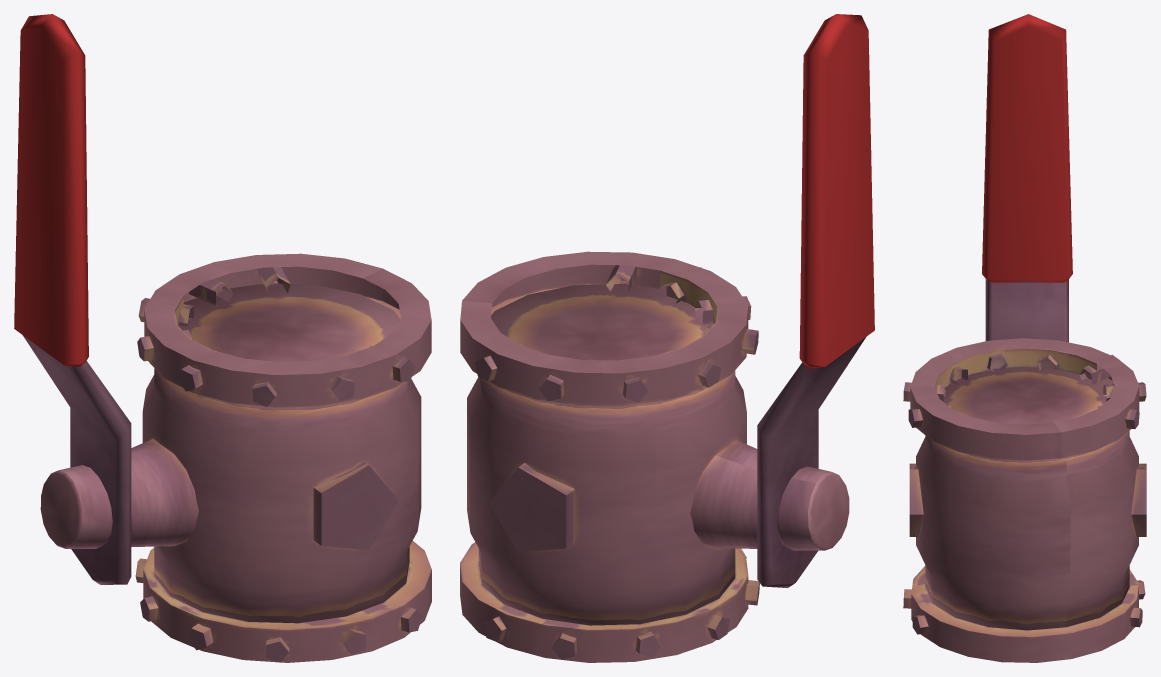
File: lever_hotCold 1.fbx
3 renders of one model, left to right at view 1: azimuth 30°, elevation 25°; view 2: azimuth 150°, elevation 25°; view 3: azimuth 270°, elevation 25°, orthographic. The views are drawn at different scales.
Parts seen in each view (by area): view 1: body, handle; view 2: body, handle; view 3: body, handle.
Boxes of the visible parts, x1,y1,x2,y2 form: body: [40, 253, 431, 662]; handle: [14, 14, 131, 584]; body: [460, 251, 849, 662]; handle: [757, 14, 874, 588]; body: [903, 338, 1146, 662]; handle: [982, 14, 1072, 342].
Size of the model in its own units: 1.3 by 2.15 by 0.9295.
1 material, 1 textured.
